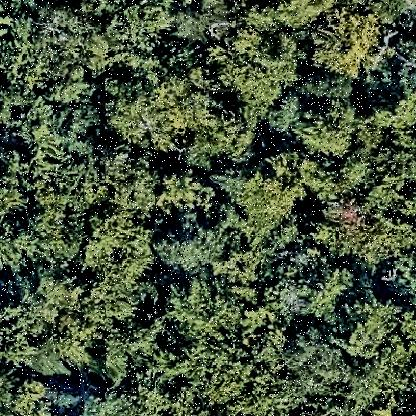tree-top: (227, 152, 311, 242), (104, 71, 198, 150), (211, 27, 301, 109), (23, 6, 115, 86), (318, 189, 408, 264), (12, 268, 88, 350), (305, 7, 387, 82), (77, 1, 178, 61), (83, 212, 154, 290), (272, 258, 351, 324), (169, 278, 247, 341), (183, 340, 255, 408), (153, 211, 226, 277), (340, 297, 407, 361), (298, 96, 360, 161), (289, 327, 349, 394), (102, 152, 160, 218), (1, 84, 63, 144), (59, 97, 111, 163), (157, 166, 215, 218), (303, 266, 356, 321), (2, 146, 40, 221), (174, 1, 236, 43), (6, 373, 59, 416), (391, 63, 416, 141), (69, 390, 143, 416), (295, 70, 355, 102), (267, 1, 333, 29), (267, 88, 309, 132)
